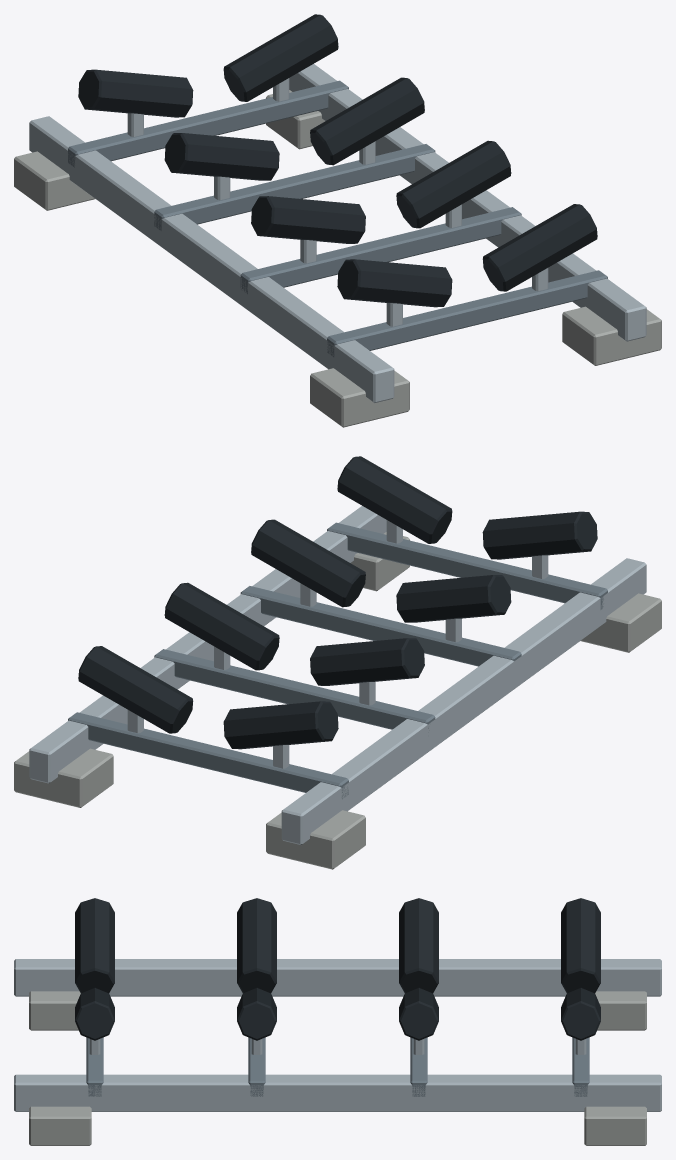
Rendered from b20_roller_boat_launch_cradle.glb.
3 views of the same model, one above another, from view 1: azimuth 30°, elevation 25°; view 2: azimuth 150°, elevation 25°; view 3: azimuth 270°, elevation 25° (orthographic). The views are drawn at different scales.
Visible parts, largest first — view 1: b20_roller_boat_launch_cradle; view 2: b20_roller_boat_launch_cradle; view 3: b20_roller_boat_launch_cradle.
Boxes of the visible parts, x1,y1,x2,y2 form: b20_roller_boat_launch_cradle: [14, 14, 661, 427]; b20_roller_boat_launch_cradle: [14, 456, 661, 869]; b20_roller_boat_launch_cradle: [14, 898, 661, 1145].
Size of the model in its own units: 1.5 by 0.5905 by 2.8.
